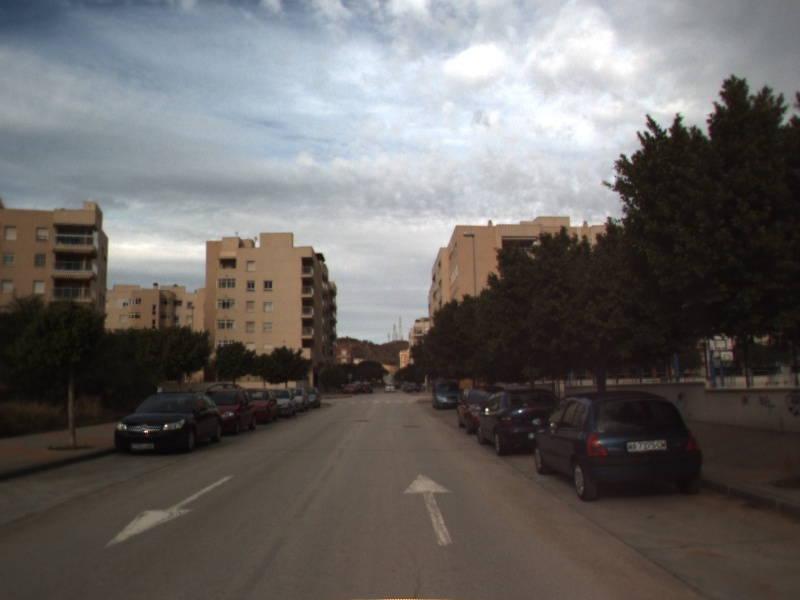STRAIGHT: (401, 471, 455, 548)
